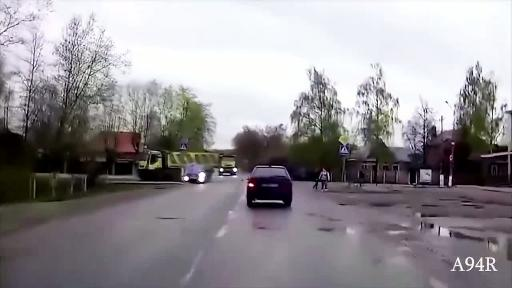Accident: (113, 102, 249, 204)
